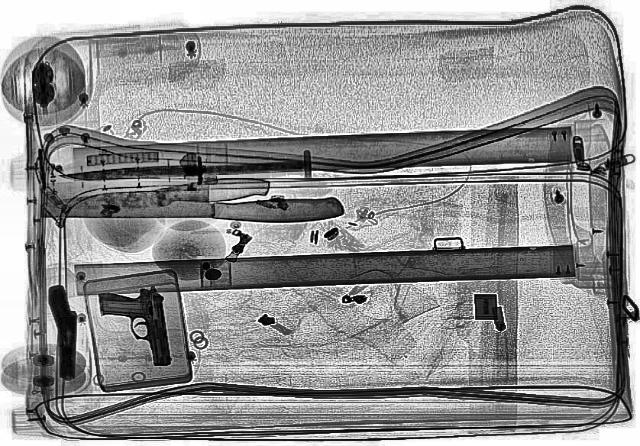Gun: (94, 285, 176, 369), (44, 284, 88, 378)
Knife: (37, 174, 345, 226), (32, 172, 272, 216), (56, 160, 304, 180)
